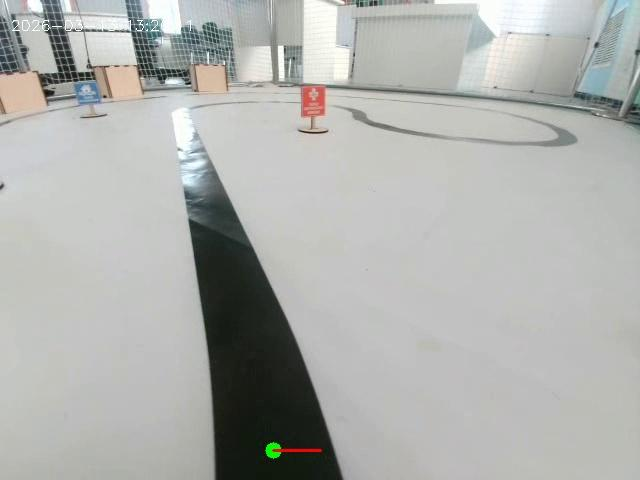flood: (74, 69, 120, 135)
medical: (292, 79, 339, 145)
